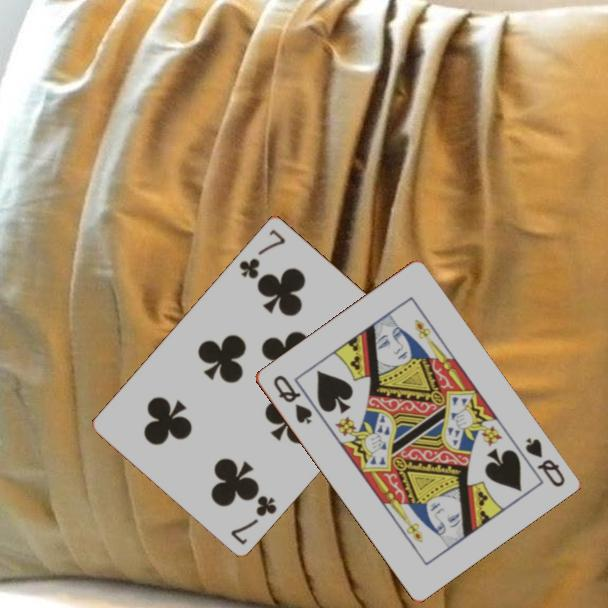c07: (235, 225, 288, 281), (227, 492, 280, 547)
s12: (269, 371, 315, 427), (521, 434, 567, 490)
